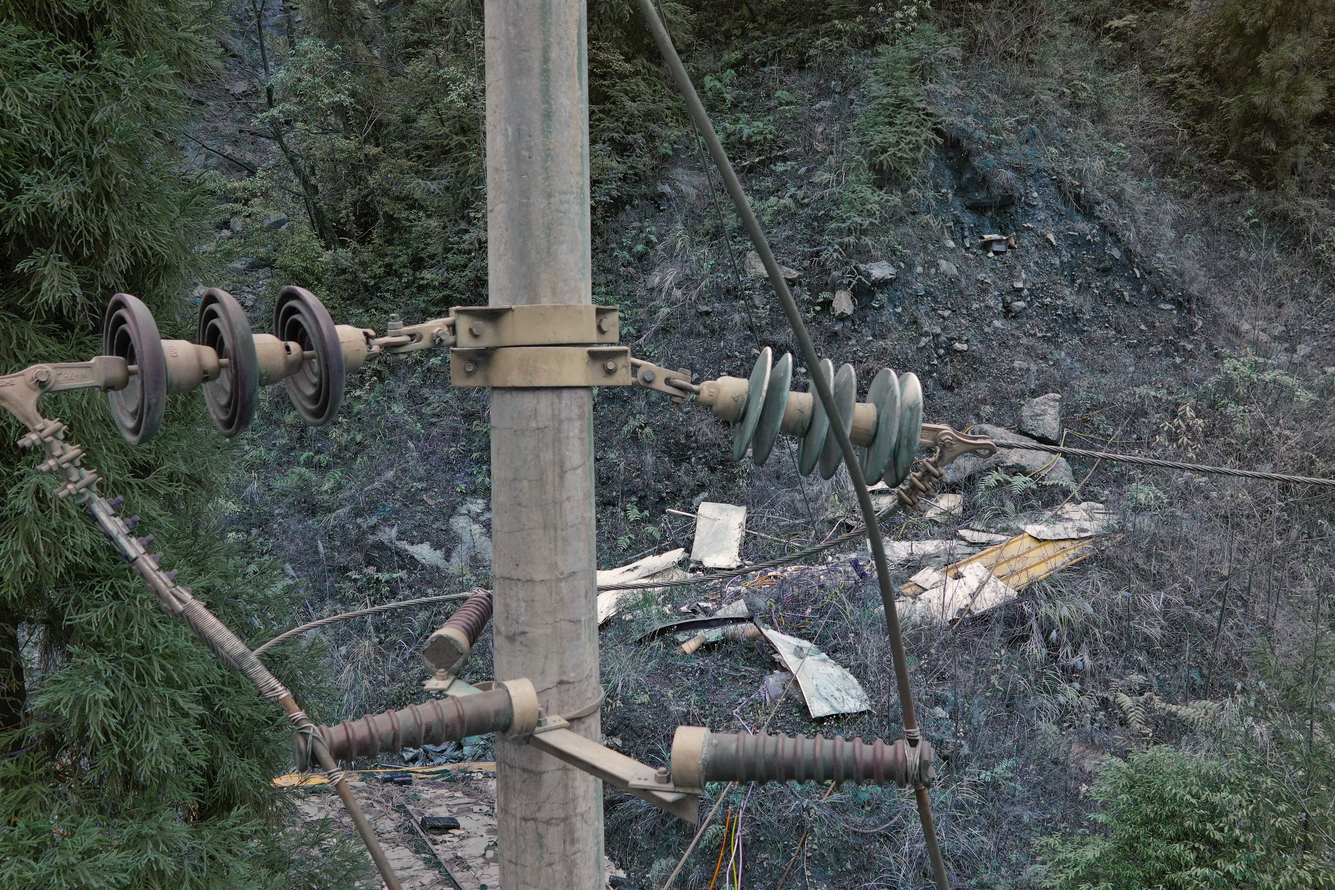severe_soiling_no_discharge_whole: (95, 270, 384, 451), (697, 343, 930, 494), (285, 674, 543, 777), (669, 720, 939, 802)
